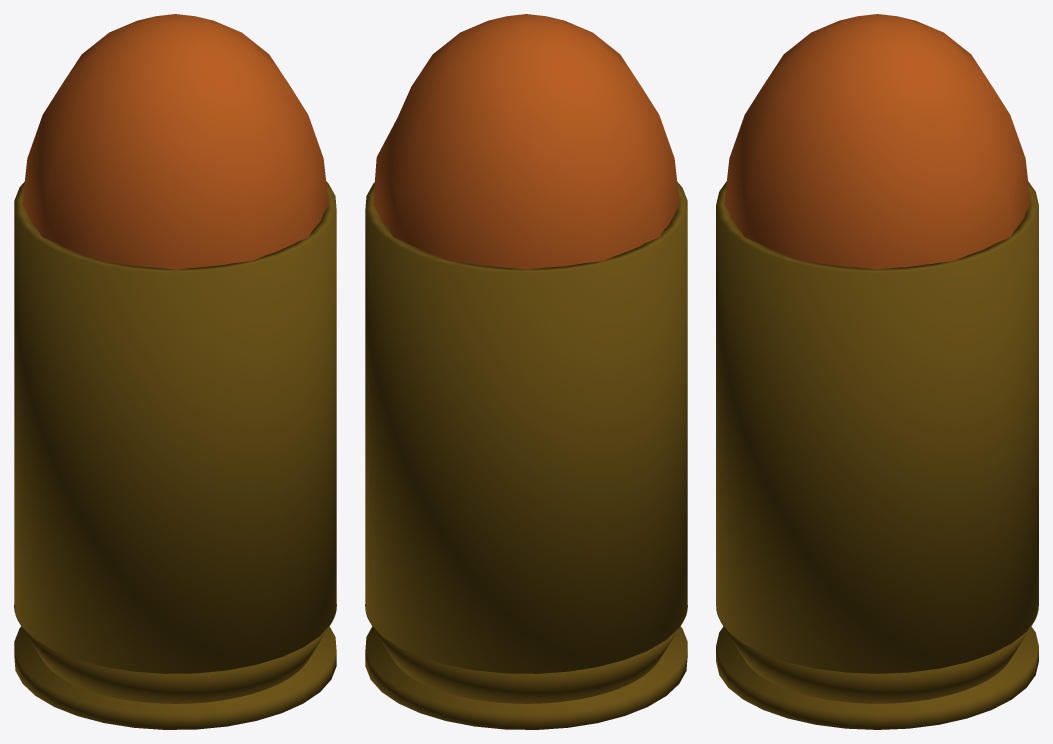
File: anotherbullet.fbx.glb
3 renders of one model, left to right at view 1: azimuth 30°, elevation 25°; view 2: azimuth 150°, elevation 25°; view 3: azimuth 270°, elevation 25°, orthographic.
Parts seen in each view (by area): view 1: Cylinder.001.1; view 2: Cylinder.001.1; view 3: Cylinder.001.1.
Boxes of the visible parts, x1,y1,x2,y2 form: Cylinder.001.1: (14,14,336,729); Cylinder.001.1: (365,14,687,729); Cylinder.001.1: (716,14,1038,729).
Size of the model in its own units: 146 by 318 by 146.
